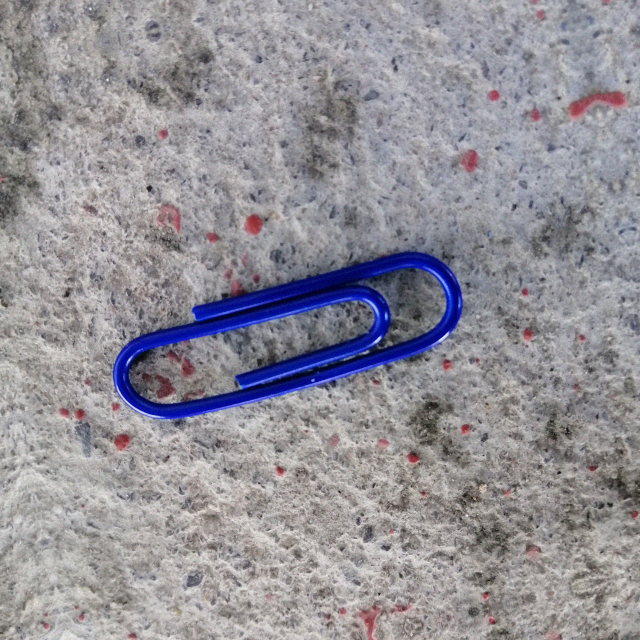pin: (108, 249, 468, 429)
